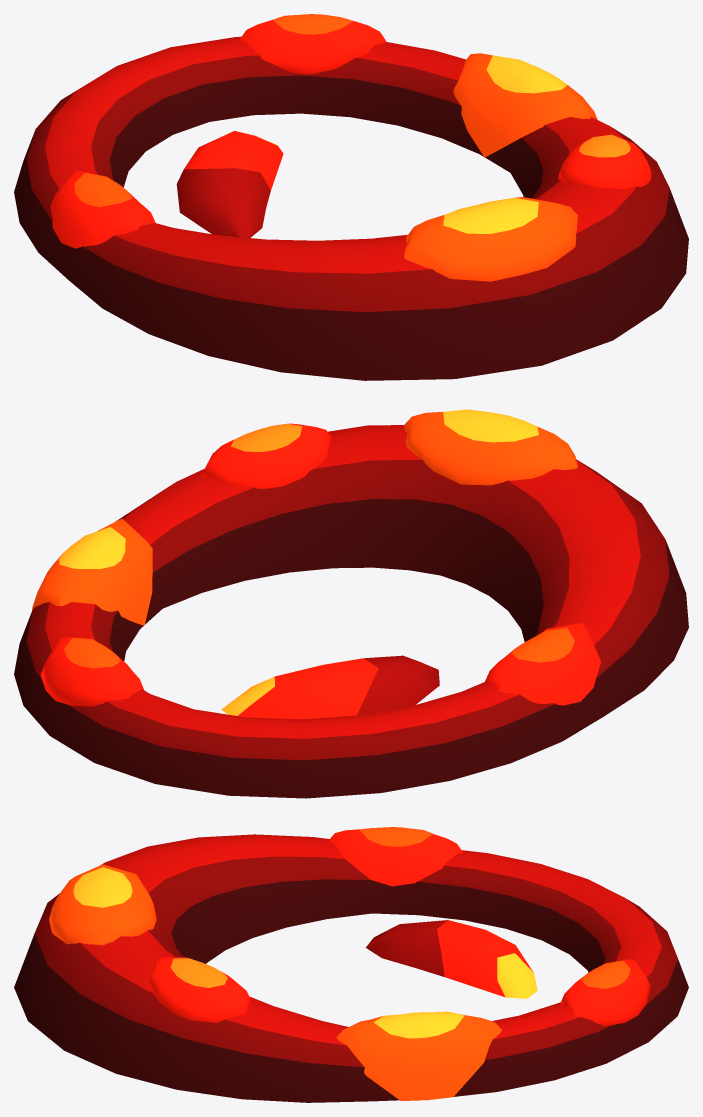
The model's file is shot_nort_ring.glb.
3 renders of one model, top to bottom at view 1: azimuth 30°, elevation 25°; view 2: azimuth 150°, elevation 25°; view 3: azimuth 270°, elevation 25°, orthographic. The views are drawn at different scales.
Visible parts, largest first — view 1: shot_nort_ring_ring, shot_nort_ring_bead1, shot_nort_ring_bead0, shot_nort_ring_swirl, shot_nort_ring_bead3, shot_nort_ring_bead4, shot_nort_ring_bead2; view 2: shot_nort_ring_ring, shot_nort_ring_bead1, shot_nort_ring_swirl, shot_nort_ring_bead0, shot_nort_ring_bead4, shot_nort_ring_bead2, shot_nort_ring_bead3; view 3: shot_nort_ring_ring, shot_nort_ring_bead0, shot_nort_ring_swirl, shot_nort_ring_bead1, shot_nort_ring_bead4, shot_nort_ring_bead2, shot_nort_ring_bead3.
Boxes of the visible parts, left/top/right/bottom form: shot_nort_ring_ring: left=14, top=36, right=688, bottom=380; shot_nort_ring_bead1: left=404, top=197, right=577, bottom=281; shot_nort_ring_bead0: left=453, top=53, right=597, bottom=157; shot_nort_ring_swirl: left=176, top=131, right=283, bottom=237; shot_nort_ring_bead3: left=240, top=14, right=386, bottom=74; shot_nort_ring_bead4: left=50, top=171, right=155, bottom=248; shot_nort_ring_bead2: left=558, top=134, right=651, bottom=189; shot_nort_ring_ring: left=14, top=425, right=688, bottom=798; shot_nort_ring_bead1: left=404, top=409, right=577, bottom=485; shot_nort_ring_swirl: left=221, top=655, right=439, bottom=719; shot_nort_ring_bead0: left=32, top=518, right=152, bottom=625; shot_nort_ring_bead4: left=485, top=623, right=600, bottom=705; shot_nort_ring_bead2: left=201, top=423, right=331, bottom=488; shot_nort_ring_bead3: left=40, top=637, right=143, bottom=706; shot_nort_ring_ring: left=14, top=834, right=688, bottom=1102; shot_nort_ring_bead0: left=336, top=1011, right=501, bottom=1100; shot_nort_ring_swirl: left=366, top=920, right=537, bottom=998; shot_nort_ring_bead1: left=49, top=864, right=156, bottom=945; shot_nort_ring_bead4: left=329, top=827, right=462, bottom=886; shot_nort_ring_bead2: left=147, top=957, right=250, bottom=1022; shot_nort_ring_bead3: left=560, top=959, right=650, bottom=1026.
Bounding box in the file's own units: 8.11 × 1.71 × 10.02.
